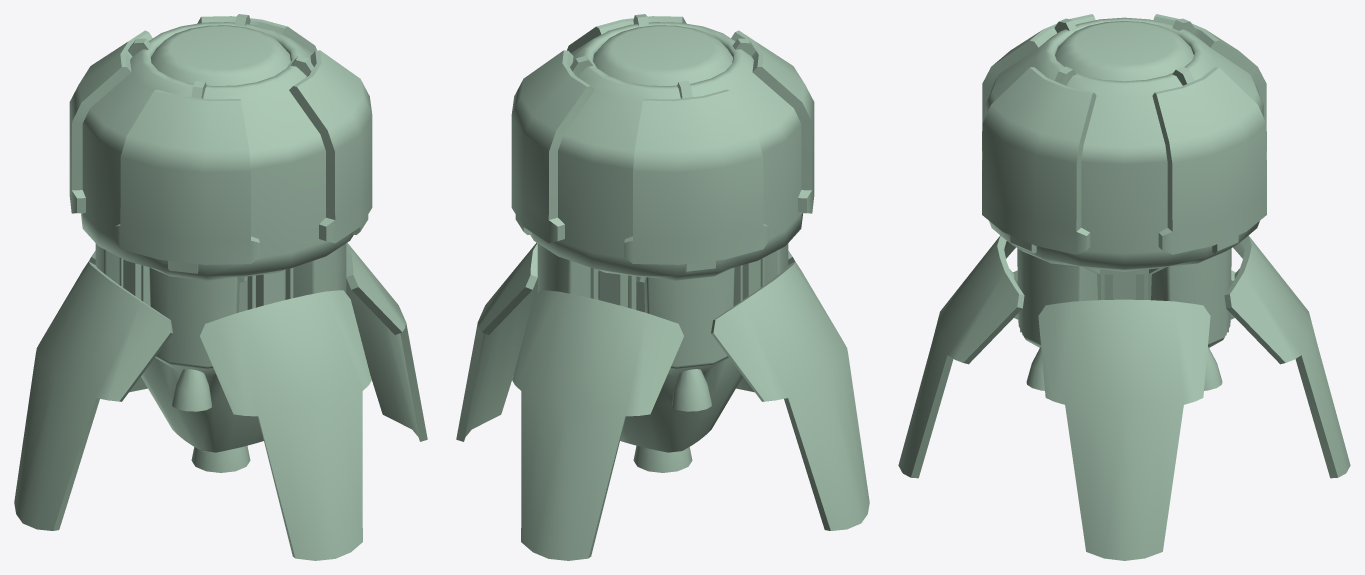
The model's file is REENTRY_CRAFT_static_open_noholes_mesh.fbx.
The picture shows the model from 3 angles, left to right: view 1: azimuth 30°, elevation 25°; view 2: azimuth 150°, elevation 25°; view 3: azimuth 270°, elevation 25°; orthographic projection.
Parts seen in each view (by area): view 1: EPOD_static_open_noholes_GEO; view 2: EPOD_static_open_noholes_GEO; view 3: EPOD_static_open_noholes_GEO.
Part boxes in pixels (box(x1,y1,x2,y2)): EPOD_static_open_noholes_GEO: box(14, 14, 427, 560); EPOD_static_open_noholes_GEO: box(456, 14, 869, 560); EPOD_static_open_noholes_GEO: box(898, 14, 1350, 560).
Bounding box in the file's own units: 9.39 × 9.69 × 9.39.
